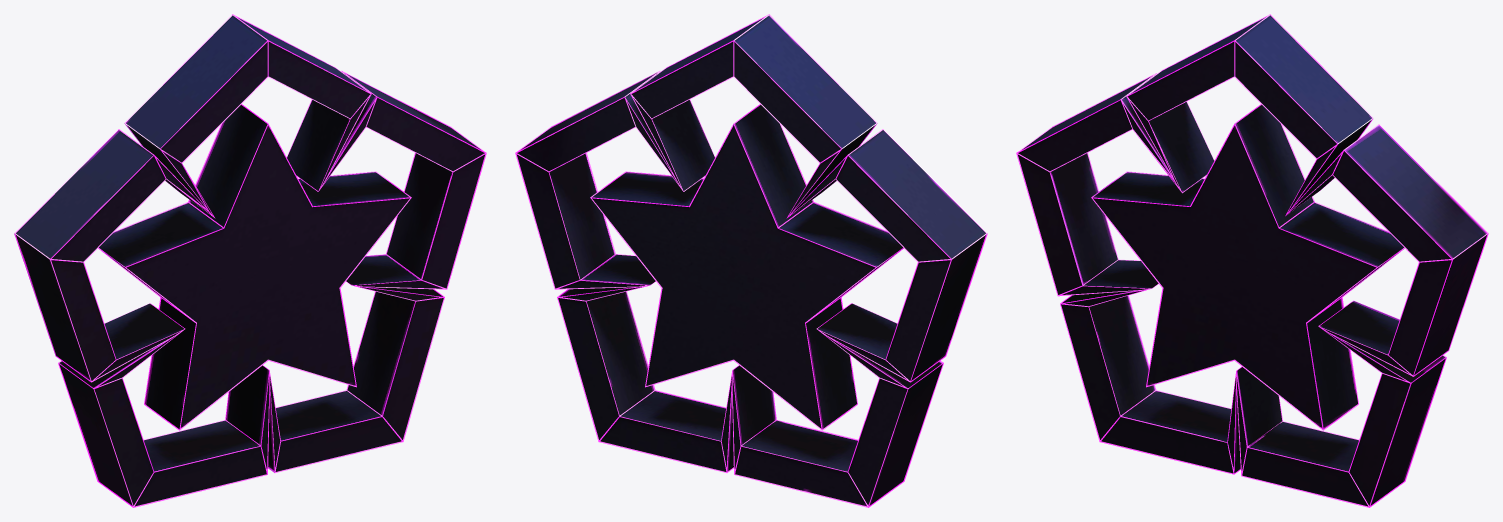
The model's file is Star_Big.glb.
3 renders of one model, left to right at view 1: azimuth 30°, elevation 25°; view 2: azimuth 150°, elevation 25°; view 3: azimuth 330°, elevation 25°, orthographic.
Parts seen in each view (by area): view 1: Star_Big; view 2: Star_Big; view 3: Star_Big.
Boxes of the visible parts, bbox=[...] form: Star_Big: bbox=[14, 14, 486, 507]; Star_Big: bbox=[515, 14, 987, 507]; Star_Big: bbox=[1016, 14, 1488, 507].
Bounding box in the file's own units: 1.54 × 1.46 × 0.2194.
Materials: 1 (1 with a texture image).
